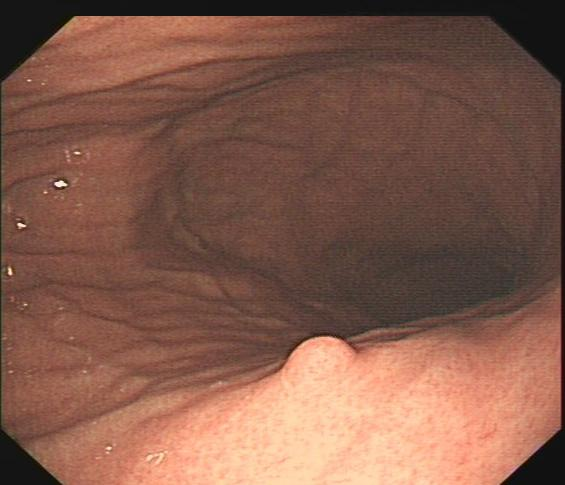Polyp: (268, 331, 377, 402)
